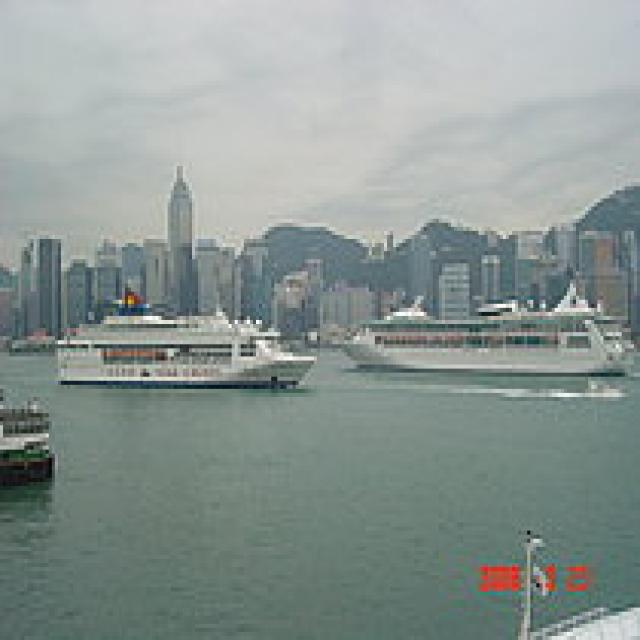Cruise: (52, 275, 314, 393), (323, 280, 631, 372)
